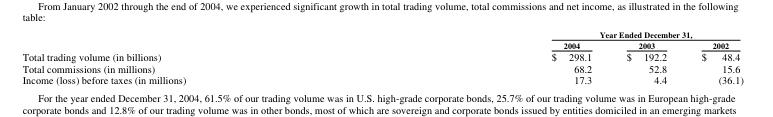table: (21, 28, 742, 86)
table column: (21, 28, 368, 86), (368, 28, 608, 86), (608, 28, 683, 86), (683, 28, 742, 86)
table column header: (21, 28, 742, 50)
table row: (21, 73, 742, 86), (21, 50, 742, 62), (21, 28, 742, 39), (21, 39, 742, 50), (21, 62, 742, 73)
table spanning cell: (368, 28, 742, 39)
